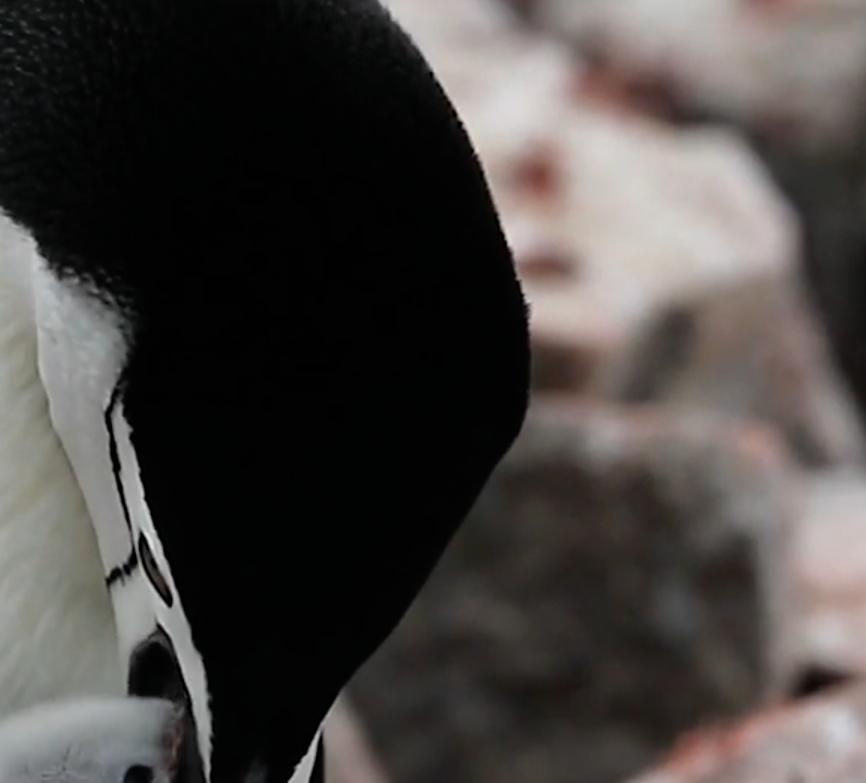Chinstrap Penguin: (0, 95, 531, 783)
